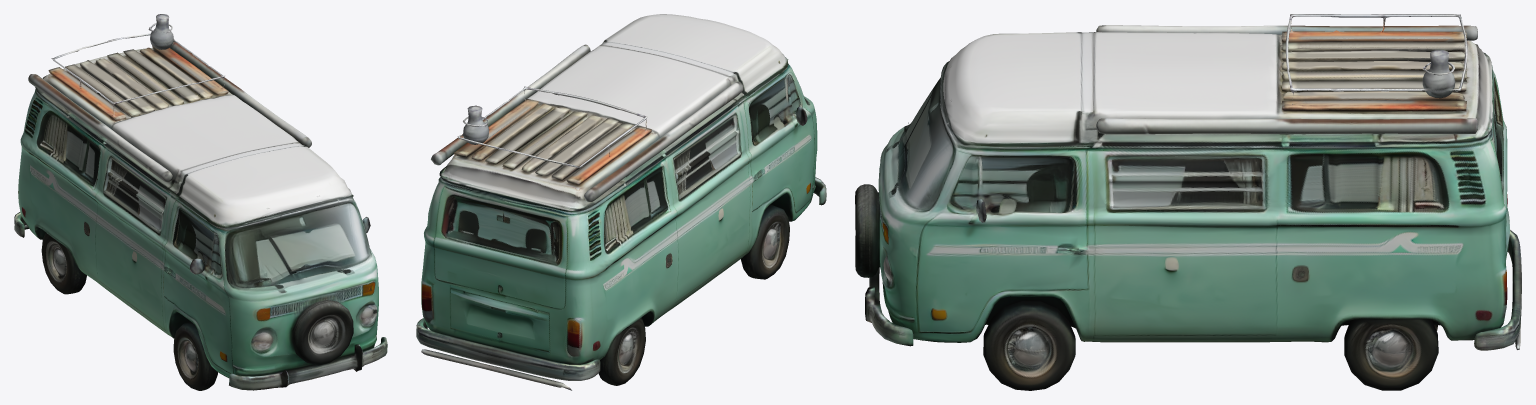
The model's file is base_basic_pbr_v004.glb.
3 renders of one model, left to right at view 1: azimuth 30°, elevation 25°; view 2: azimuth 150°, elevation 25°; view 3: azimuth 270°, elevation 25°, orthographic. The views are drawn at different scales.
Visible parts, largest first — view 1: model; view 2: model; view 3: model.
Part boxes in pixels (left/top/right/bottom): model: left=14, top=14, right=387, bottom=390; model: left=416, top=14, right=826, bottom=390; model: left=855, top=14, right=1521, bottom=390.
Size of the model in its own units: 0.792 by 0.979 by 1.84.
Materials: 1 (1 with a texture image).
